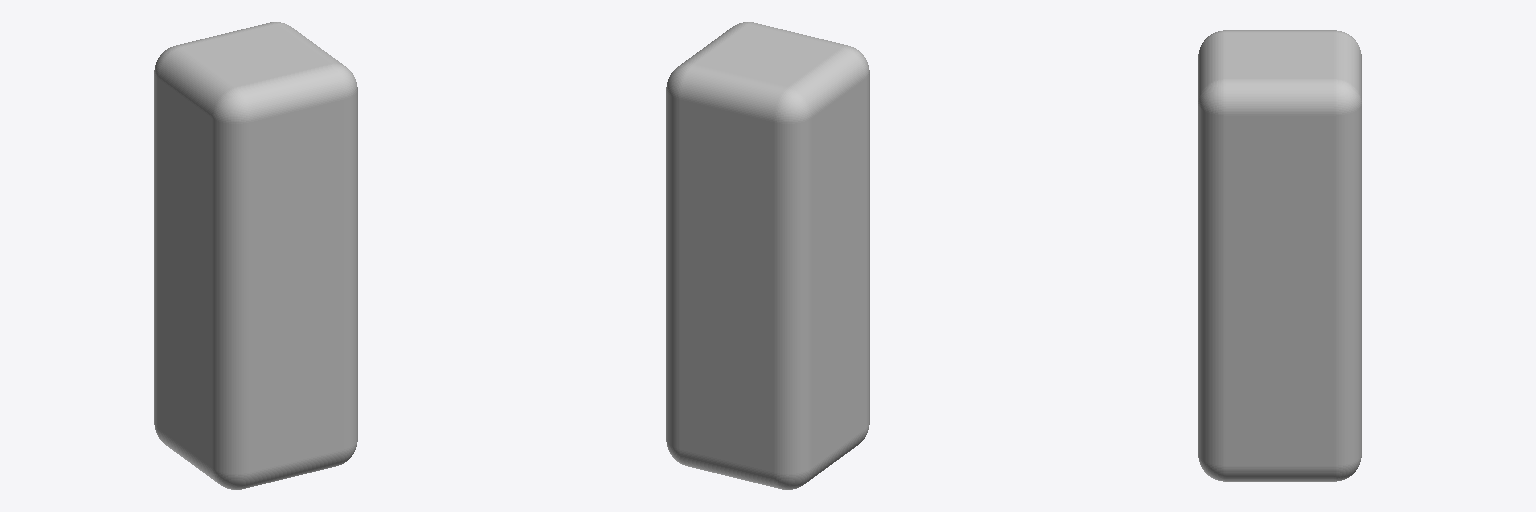
File: perfume.obj
3 views of the same model, side by side, from view 1: azimuth 30°, elevation 25°; view 2: azimuth 150°, elevation 25°; view 3: azimuth 270°, elevation 25° (orthographic).
Visible parts, largest first — view 1: Cube; view 2: Cube; view 3: Cube.
Part boxes in pixels (left/top/right/bottom): Cube: left=154, top=22, right=357, bottom=489; Cube: left=666, top=22, right=869, bottom=489; Cube: left=1198, top=30, right=1361, bottom=481.
Bounding box in the file's own units: 2 × 5.4 × 2.